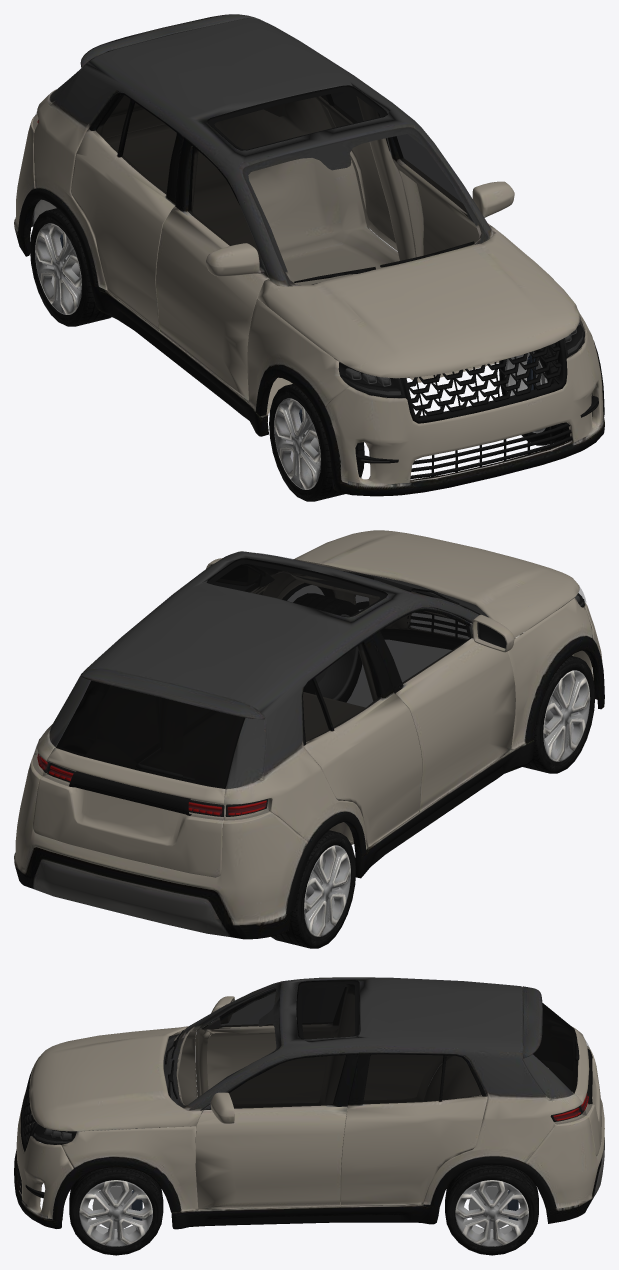
File: mmc_generic_small_suv.glb
The picture shows the model from 3 angles, top to bottom: view 1: azimuth 30°, elevation 25°; view 2: azimuth 150°, elevation 25°; view 3: azimuth 270°, elevation 25°; orthographic projection. The views are drawn at different scales.
Visible parts, largest first — view 1: chassis-sunroof, hood, glass-windshield, bumper-front, door-front-right, door-rear-right, glass-sunroof, fender-front-right, door-front-left, front-grille, glass-door-front-right, wheel-rr (+20 smaller); view 2: chassis-sunroof, bumper-rear, trunk, door-front-right, hood, glass-rear, door-rear-right, glass-sunroof, fender-front-right, glass-door-front-right, glass-door-rear-right, wheel-rr (+19 smaller); view 3: chassis-sunroof, door-front-left, door-rear-left, hood, door-front-right, glass-windshield, fender-front-left, bumper-rear, glass-door-front-left, glass-door-rear-left, glass-sunroof, bumper-front (+22 smaller).
Boxes of the visible parts, bbox=[...] form: chassis-sunroof: bbox=[33, 18, 499, 436]; hood: bbox=[257, 225, 579, 378]; glass-windshield: bbox=[243, 127, 487, 285]; bumper-front: bbox=[325, 328, 604, 496]; door-front-right: bbox=[156, 137, 269, 401]; door-rear-right: bbox=[71, 91, 183, 330]; glass-sunroof: bbox=[207, 85, 387, 150]; fender-front-right: bbox=[247, 298, 349, 410]; door-front-left: bbox=[378, 113, 489, 257]; front-grille: bbox=[407, 344, 561, 417]; glass-door-front-right: bbox=[188, 146, 260, 261]; wheel-rr: bbox=[35, 223, 81, 314]; chassis-sunroof: bbox=[34, 551, 534, 878]; bumper-rear: bbox=[14, 754, 308, 939]; trunk: bbox=[33, 748, 225, 877]; door-front-right: bbox=[371, 607, 515, 811]; hood: bbox=[277, 530, 579, 637]; glass-rear: bbox=[56, 680, 244, 788]; door-rear-right: bbox=[302, 635, 422, 847]; glass-sunroof: bbox=[207, 558, 387, 617]; fender-front-right: bbox=[507, 597, 592, 750]; glass-door-front-right: bbox=[380, 611, 471, 683]; glass-door-rear-right: bbox=[315, 643, 380, 728]; wheel-rr: bbox=[304, 845, 350, 936]; chassis-sunroof: bbox=[170, 977, 582, 1229]; door-front-left: bbox=[195, 1052, 358, 1210]; door-rear-left: bbox=[340, 1052, 487, 1206]; hood: bbox=[29, 1026, 201, 1131]; door-front-right: bbox=[195, 987, 346, 1107]; glass-windshield: bbox=[170, 983, 280, 1107]; fender-front-left: bbox=[61, 1126, 198, 1211]; bumper-rear: bbox=[526, 1046, 604, 1223]; glass-door-front-left: bbox=[229, 1055, 345, 1108]; glass-door-rear-left: bbox=[363, 1054, 443, 1104]; glass-sunroof: bbox=[296, 980, 359, 1039]; bumper-front: bbox=[14, 1091, 73, 1228].
Size of the model in its own units: 1.95 by 1.56 by 4.19.
Materials: 13 (3 with a texture image).
